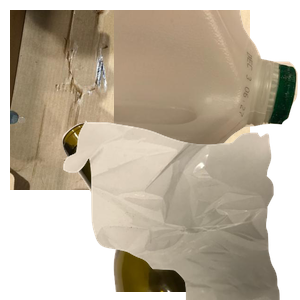cardboard: (10, 10, 250, 190)
glass: (60, 120, 300, 300)
plastic: (114, 10, 300, 179)
trash: (61, 120, 300, 300)
